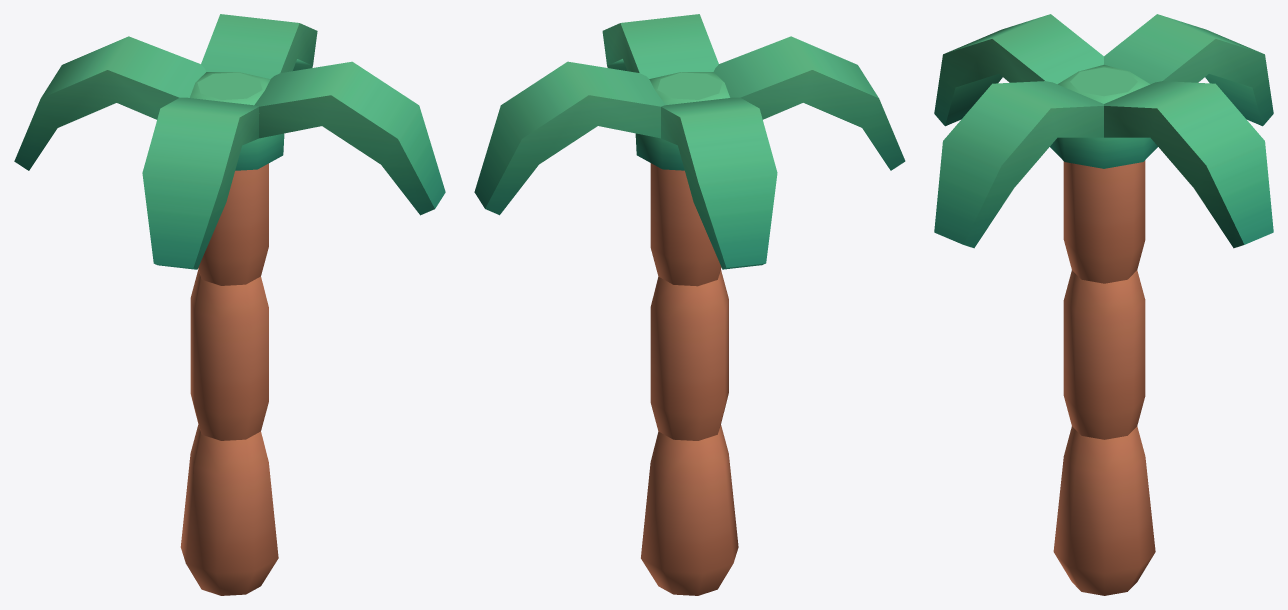
The model's file is palm-straight.glb.
3 views of the same model, side by side, from view 1: azimuth 30°, elevation 25°; view 2: azimuth 150°, elevation 25°; view 3: azimuth 270°, elevation 25° (orthographic).
Parts seen in each view (by area): view 1: palm-straight; view 2: palm-straight; view 3: palm-straight.
Boxes of the visible parts, bbox=[...] form: palm-straight: bbox=[14, 14, 445, 595]; palm-straight: bbox=[474, 14, 905, 595]; palm-straight: bbox=[934, 14, 1273, 595].
Size of the model in its own units: 2.49 by 4.21 by 2.49.
Materials: 1 (1 with a texture image).
